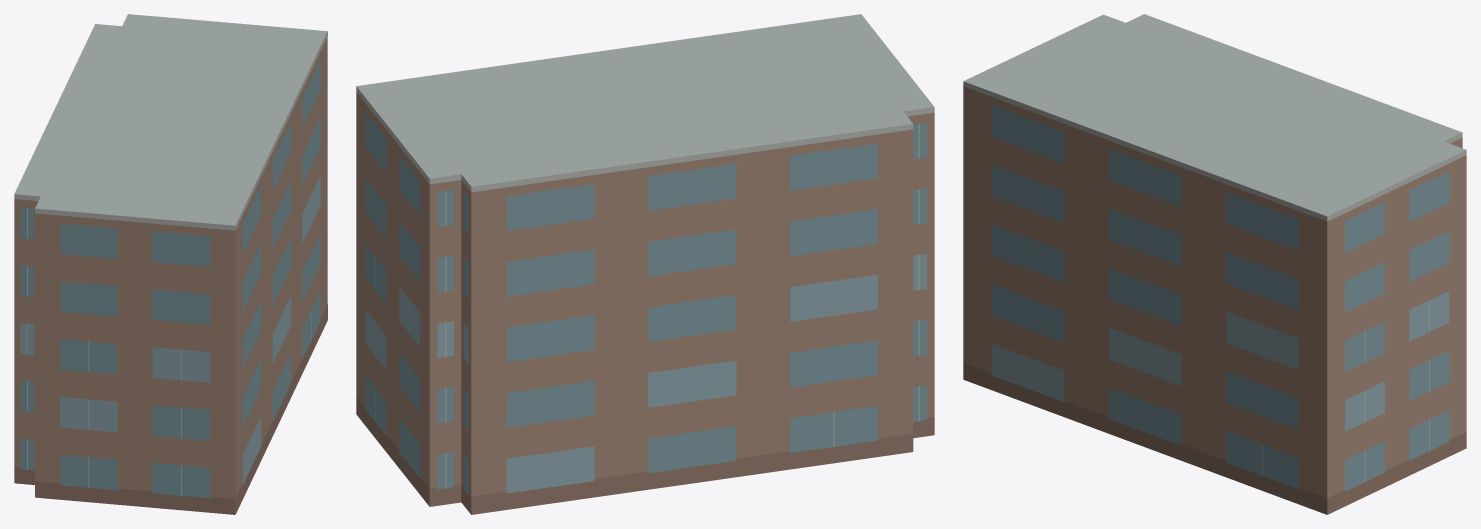
The model's file is survey-upis-32777518.glb.
3 views of the same model, side by side, from view 1: azimuth 30°, elevation 25°; view 2: azimuth 150°, elevation 25°; view 3: azimuth 270°, elevation 25° (orthographic). The views are drawn at different scales.
Parts seen in each view (by area): view 1: survey-upis-32777518.tmp; view 2: survey-upis-32777518.tmp; view 3: survey-upis-32777518.tmp.
Part boxes in pixels (x1,y1,x2,y2): survey-upis-32777518.tmp: (14, 14, 327, 514); survey-upis-32777518.tmp: (356, 14, 934, 514); survey-upis-32777518.tmp: (963, 14, 1466, 514).
Size of the model in its own units: 20.82 by 14.3 by 21.87.
